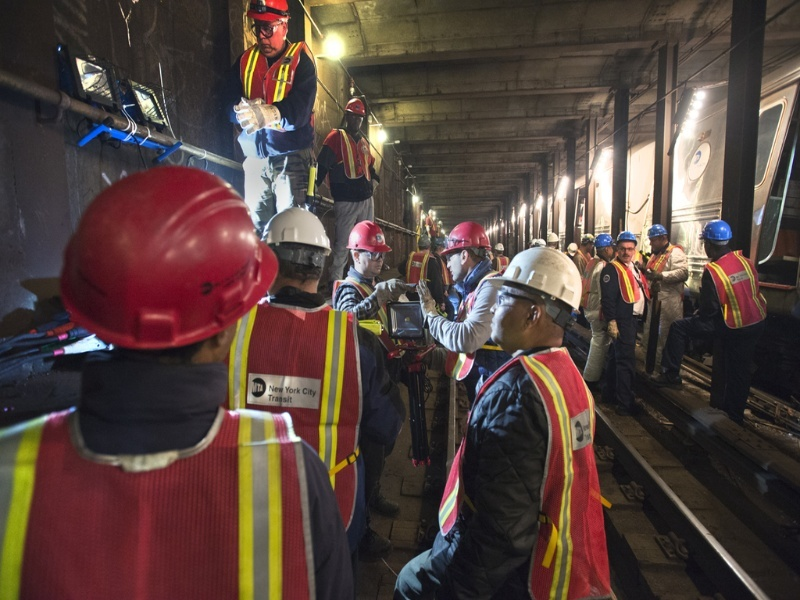baret: (56, 166, 281, 345), (488, 248, 583, 320), (429, 220, 500, 254), (342, 216, 392, 256)
